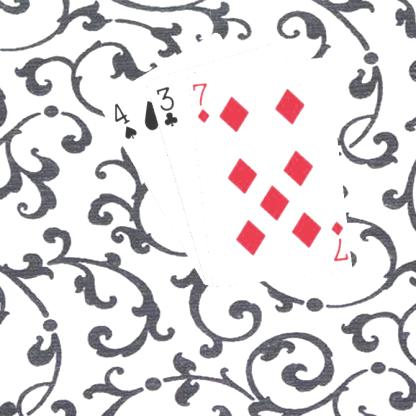3C: (153, 83, 179, 128)
4S: (110, 100, 138, 141)
7D: (328, 218, 347, 263), (192, 79, 210, 125)
